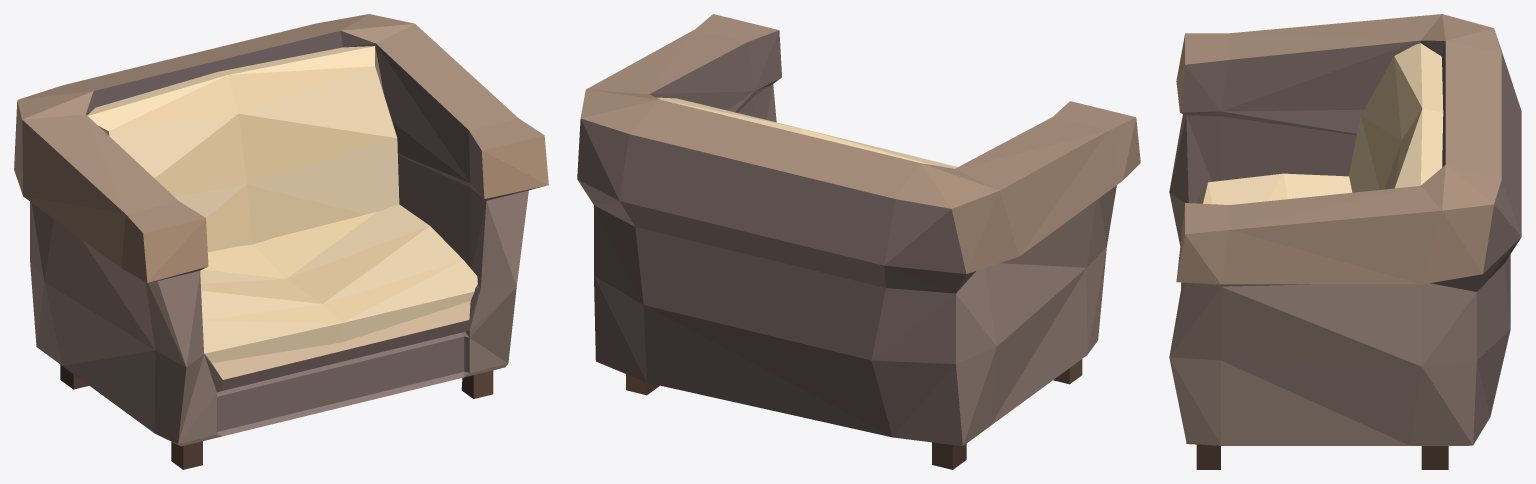
The model's file is armchair_upstairs.fbx.
3 renders of one model, left to right at view 1: azimuth 30°, elevation 25°; view 2: azimuth 150°, elevation 25°; view 3: azimuth 270°, elevation 25°, orthographic. The views are drawn at different scales.
Visible parts, largest first — view 1: armchair_upstrairs; view 2: armchair_upstrairs; view 3: armchair_upstrairs.
Boxes of the visible parts, box(x1,y1,x2,y2) form: armchair_upstrairs: box(14, 14, 548, 469); armchair_upstrairs: box(577, 14, 1140, 469); armchair_upstrairs: box(1169, 14, 1521, 469).
Bounding box in the file's own units: 112 × 73.91 × 81.49.
